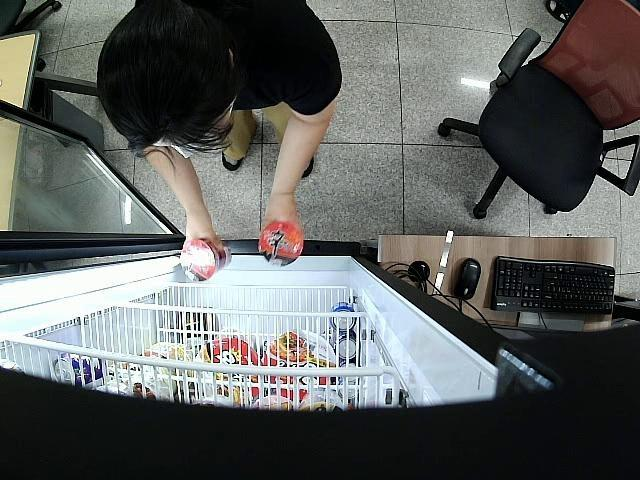02_shinRamen_S: (180, 238, 231, 280), (260, 222, 303, 266)
